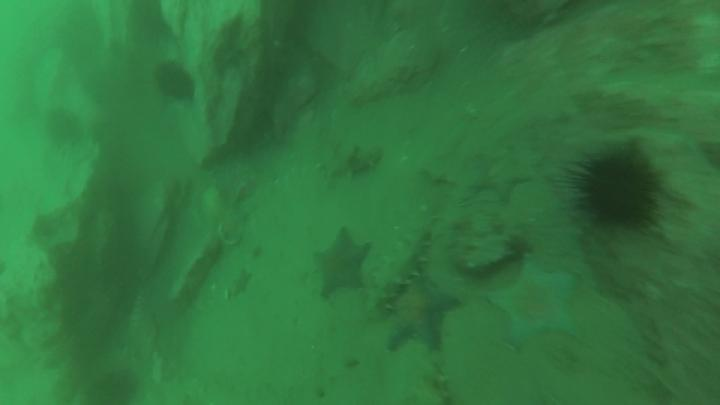echinus: (487, 254, 590, 351), (571, 146, 665, 241), (153, 59, 198, 106), (45, 108, 87, 148)
holothurian: (368, 227, 434, 308), (321, 143, 385, 183)
starfish: (384, 271, 464, 353), (311, 227, 375, 304)
